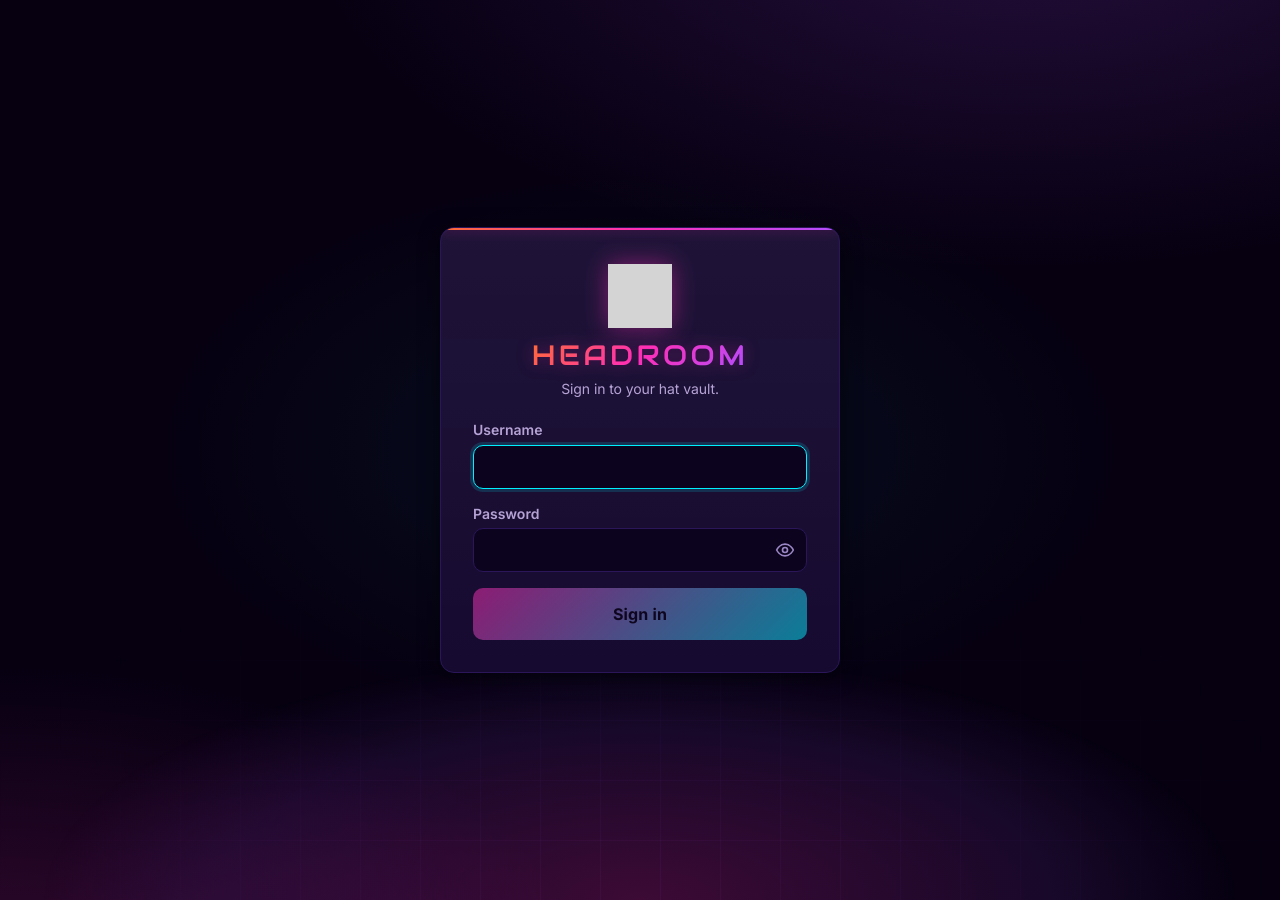
Test: LoginPage polish › shows a failed sign-in as an alert
Type "brandon" into the field labelled "Username" at coordinates (640, 467), box [473,445,807,489]
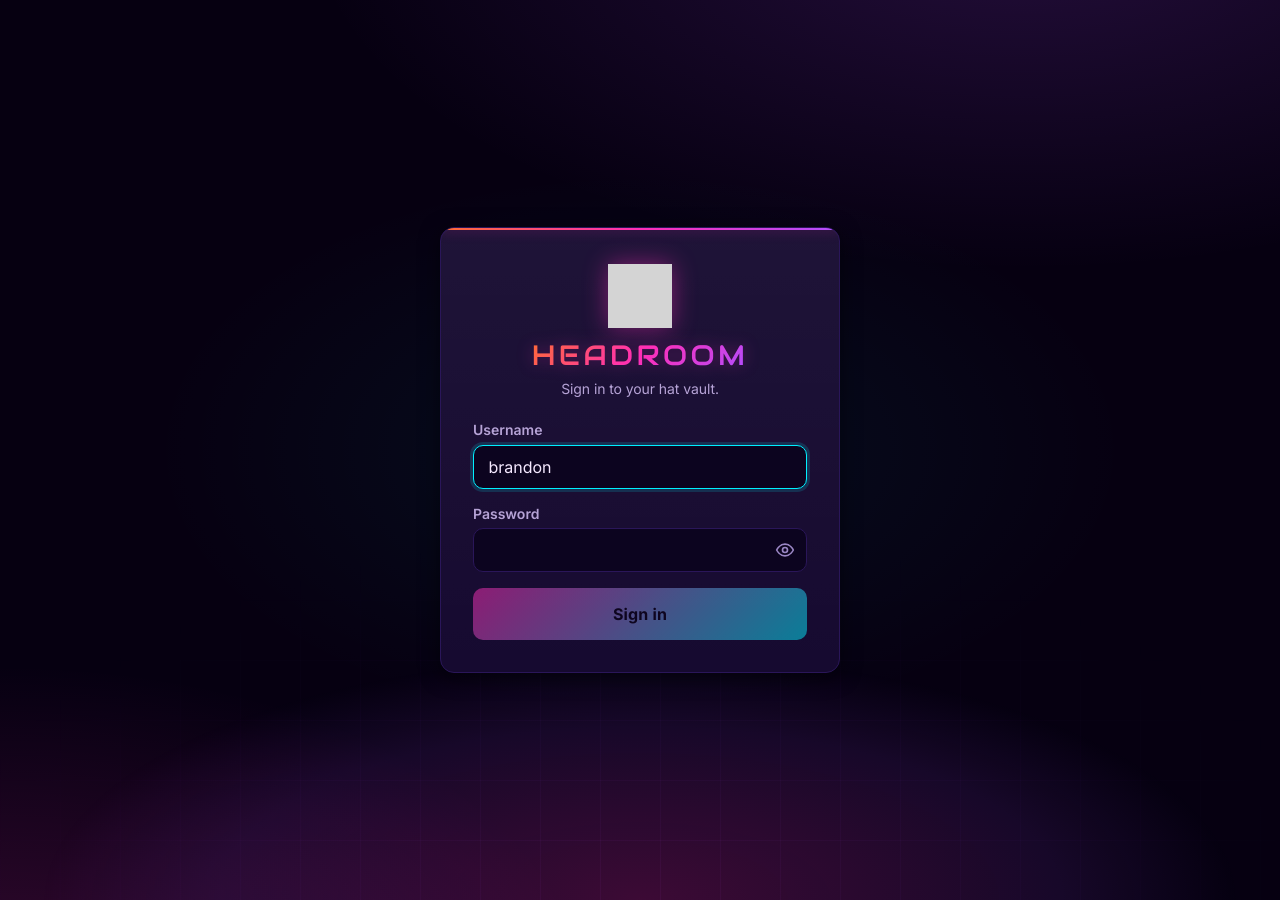
Type "wrongwrongwrong" into the password field labelled "Password" at coordinates (640, 550), box [473,528,807,572]
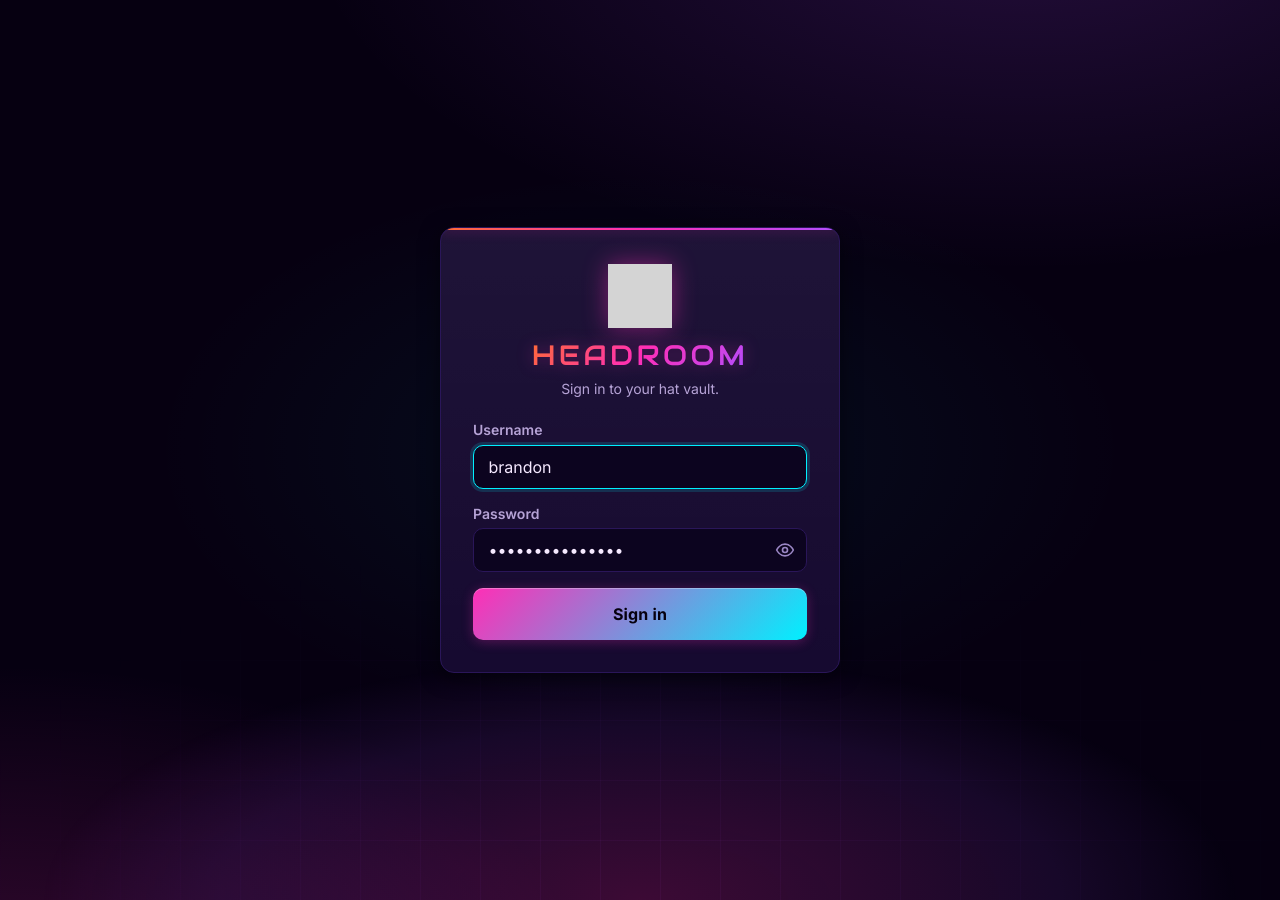
Click the button "Sign in" at coordinates (640, 614), box [473,588,807,640]
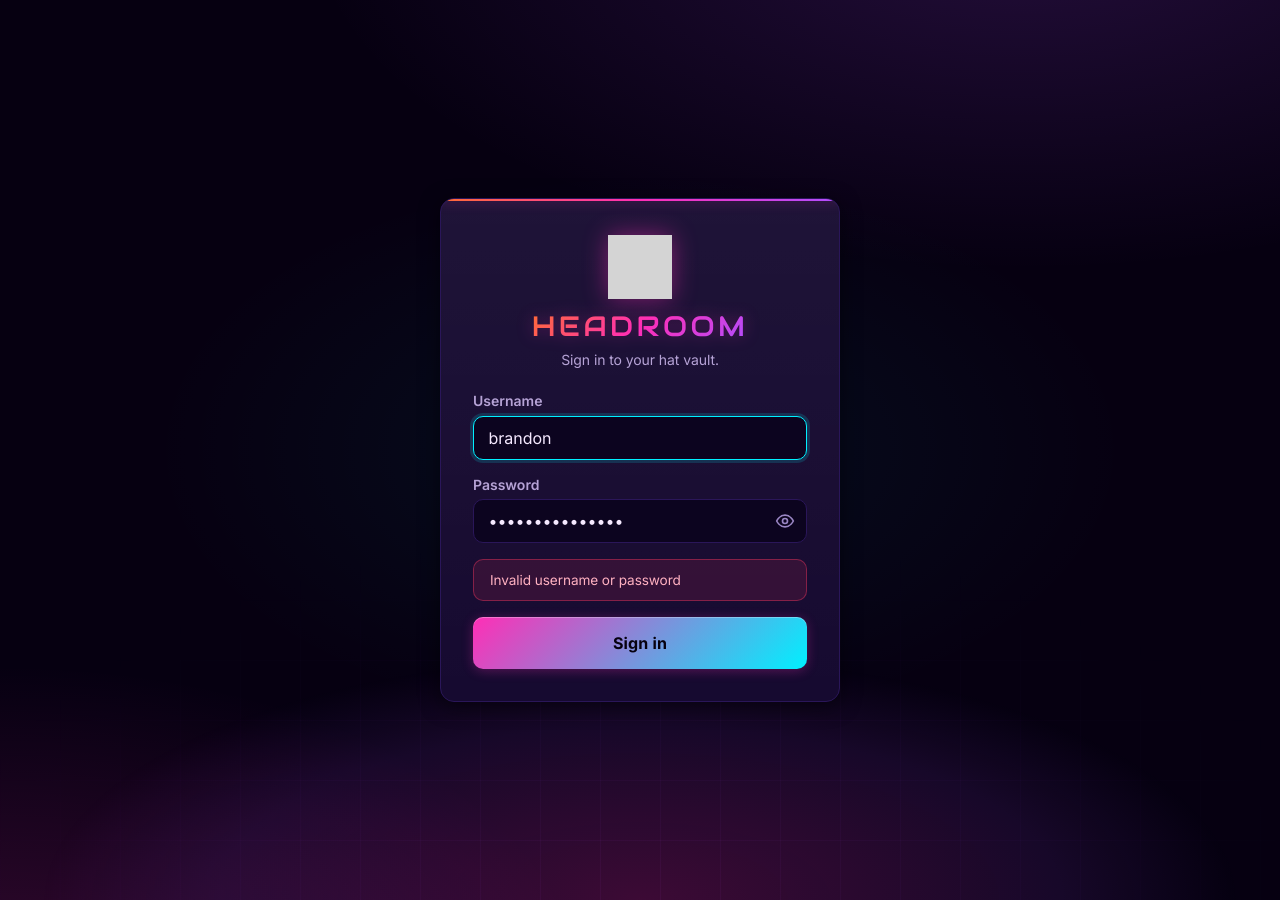
Expected: the message reads "Invalid username or password", [490,572,681,588]
